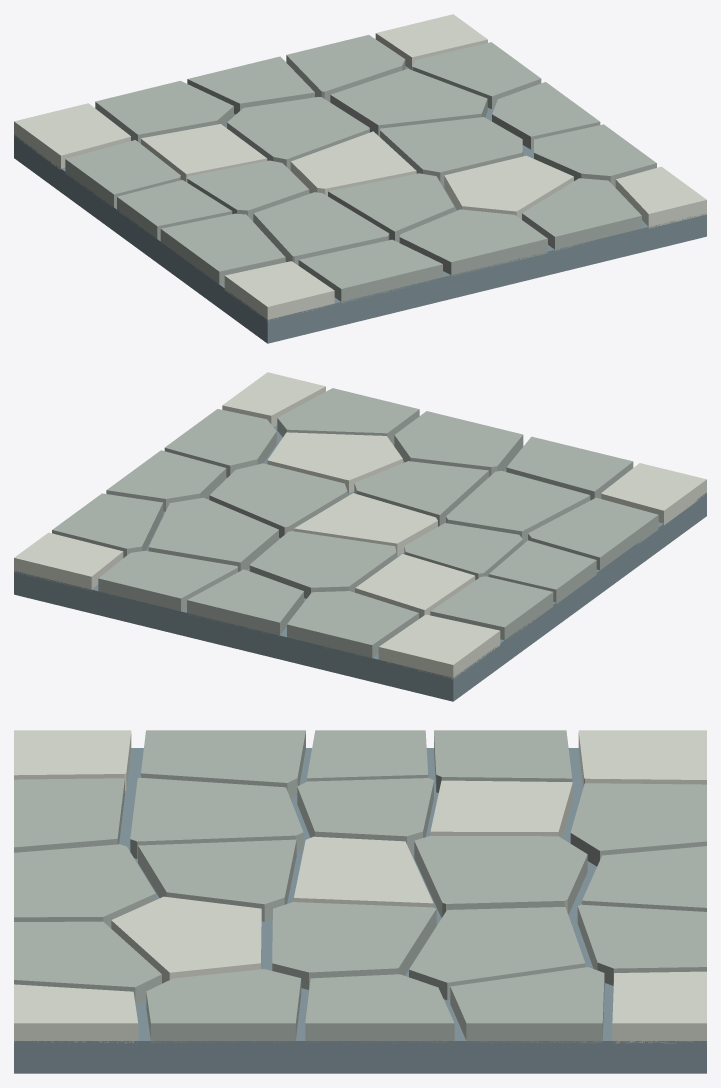
The model's file is world_dungeon_floor.fbx.
3 renders of one model, top to bottom at view 1: azimuth 30°, elevation 25°; view 2: azimuth 150°, elevation 25°; view 3: azimuth 270°, elevation 25°, orthographic. The views are drawn at different scales.
Visible parts, largest first — view 1: world_dungeon_floor_mesh; view 2: world_dungeon_floor_mesh; view 3: world_dungeon_floor_mesh.
Boxes of the visible parts, bbox=[...] form: world_dungeon_floor_mesh: bbox=[14, 14, 706, 343]; world_dungeon_floor_mesh: bbox=[14, 372, 706, 701]; world_dungeon_floor_mesh: bbox=[14, 730, 706, 1073].
Size of the model in its own units: 1 by 0.08 by 1.
